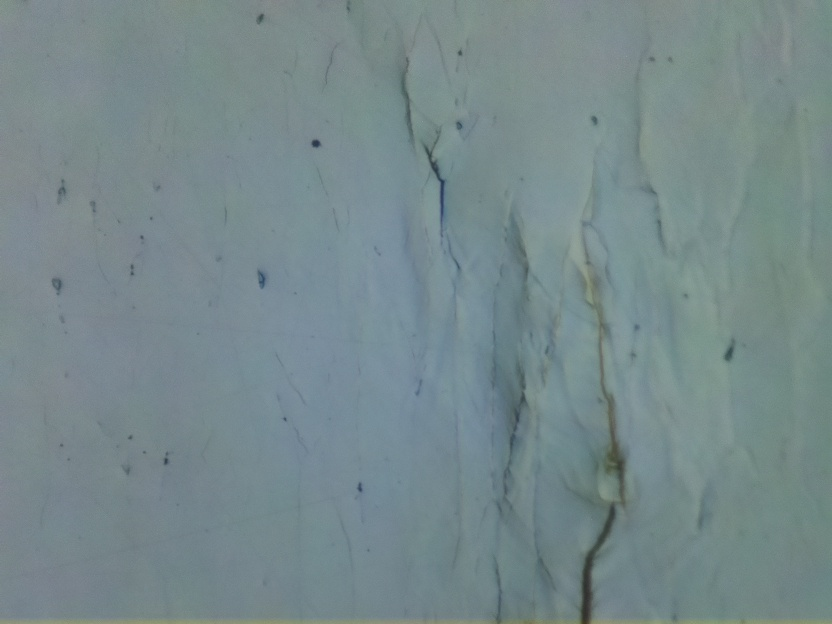crack: (571, 511, 623, 624), (416, 144, 451, 240), (398, 65, 423, 149)
